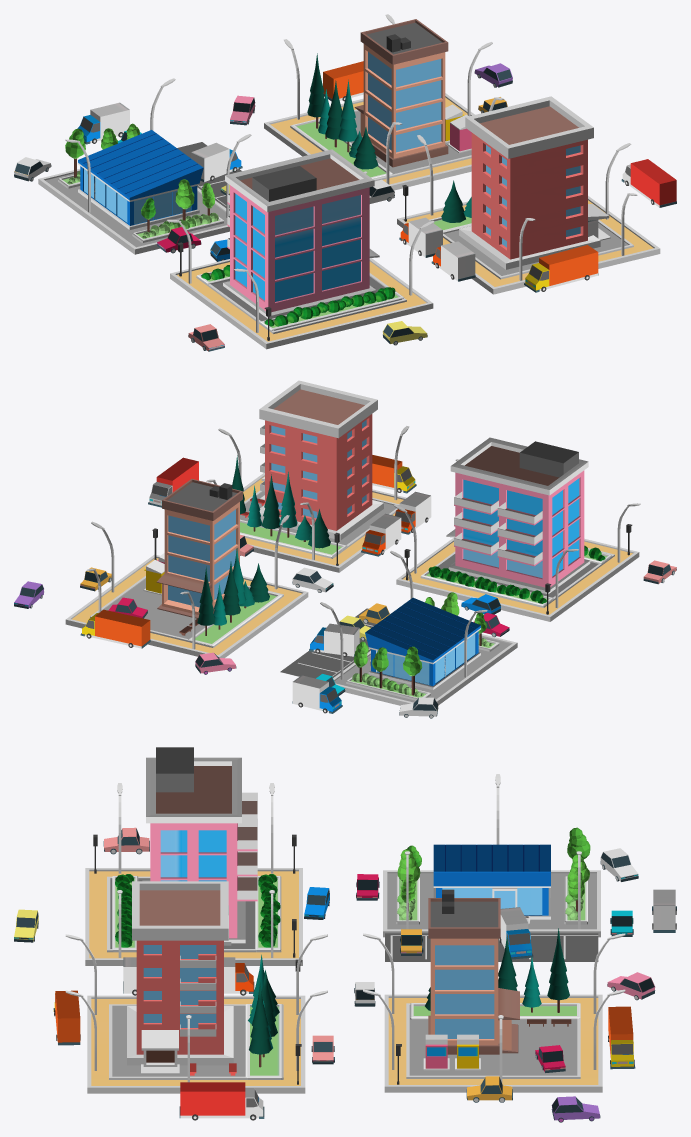
The model's file is BrokenCityFBX.fbx.
3 views of the same model, one above another, from view 1: azimuth 30°, elevation 25°; view 2: azimuth 150°, elevation 25°; view 3: azimuth 270°, elevation 25° (orthographic). The views are drawn at different scales.
Visible parts, largest first — view 1: obj35, obj37, obj71, obj72, obj30, obj78, obj43, obj61, obj10, obj9, obj42, obj32 (+22 smaller); view 2: obj35, obj37, obj71, obj72, obj30, obj61, obj78, obj43, obj60, obj18, obj79, obj16 (+22 smaller); view 3: obj37, obj35, obj71, obj72, obj61, obj43, obj60, obj30, obj78, obj42, obj9, obj79 (+29 smaller).
Part boxes in pixels (x1,y1,x2,y2): obj35: [223, 149, 379, 318]; obj37: [459, 96, 610, 269]; obj71: [354, 19, 448, 167]; obj72: [78, 130, 203, 229]; obj30: [170, 258, 433, 349]; obj78: [38, 169, 229, 254]; obj43: [397, 196, 660, 294]; obj61: [264, 93, 474, 190]; obj10: [524, 245, 598, 292]; obj9: [621, 159, 676, 207]; obj42: [443, 219, 633, 279]; obj32: [264, 287, 395, 326]; obj35: [446, 437, 590, 593]; obj37: [259, 380, 383, 540]; obj71: [156, 479, 242, 618]; obj72: [365, 597, 480, 689]; obj30: [396, 537, 639, 621]; obj61: [65, 554, 308, 657]; obj78: [333, 634, 517, 705]; obj43: [243, 473, 406, 572]; obj60: [90, 576, 283, 647]; obj18: [80, 609, 150, 648]; obj79: [280, 608, 376, 678]; obj16: [292, 675, 342, 713]; obj37: [127, 881, 233, 1074]; obj35: [142, 747, 257, 945]; obj71: [428, 889, 519, 1054]; obj72: [433, 844, 550, 919]; obj61: [384, 994, 602, 1092]; obj43: [87, 995, 305, 1093]; obj60: [406, 1003, 580, 1078]; obj30: [85, 868, 302, 965]; obj78: [383, 870, 600, 937]; obj42: [109, 1004, 283, 1079]; obj9: [179, 1082, 264, 1120]; obj79: [385, 933, 598, 961].
Size of the model in its own units: 631 by 165 by 635.
